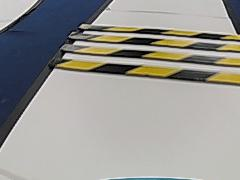bump: (53, 18, 240, 91)
